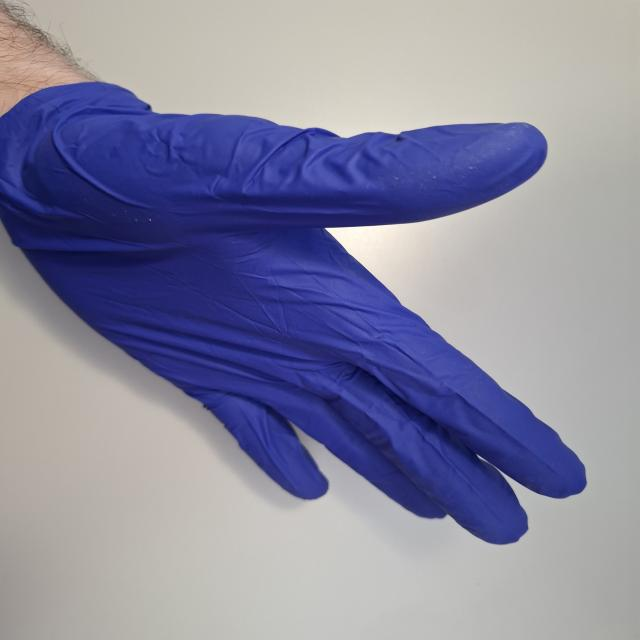glove_on: (0, 73, 596, 551)
